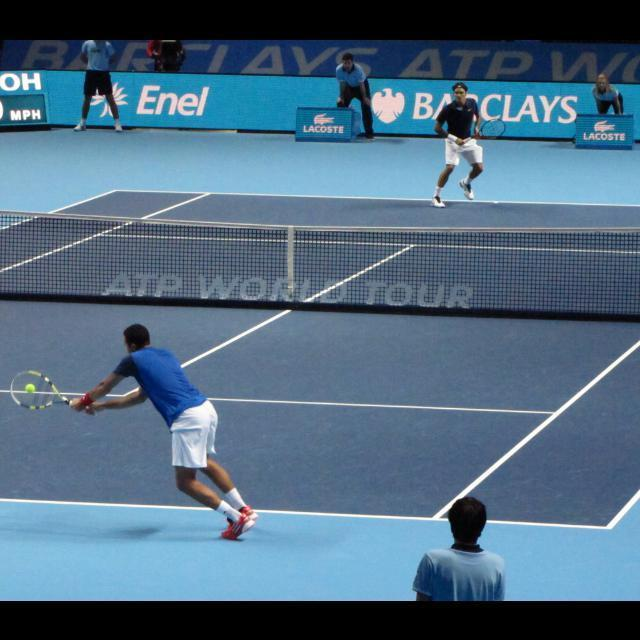tennis-ball: (25, 383, 35, 392)
